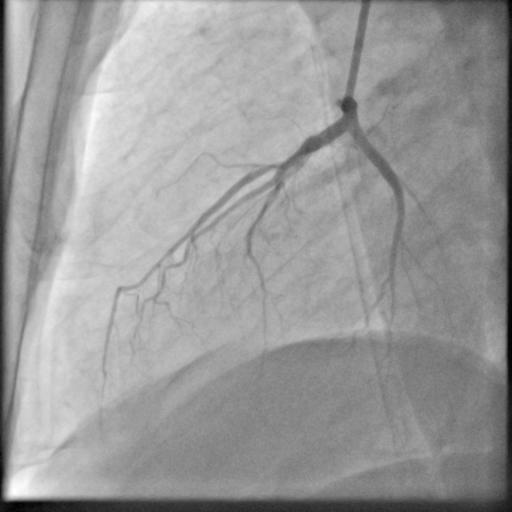Stenosis: (282, 144, 306, 168)
